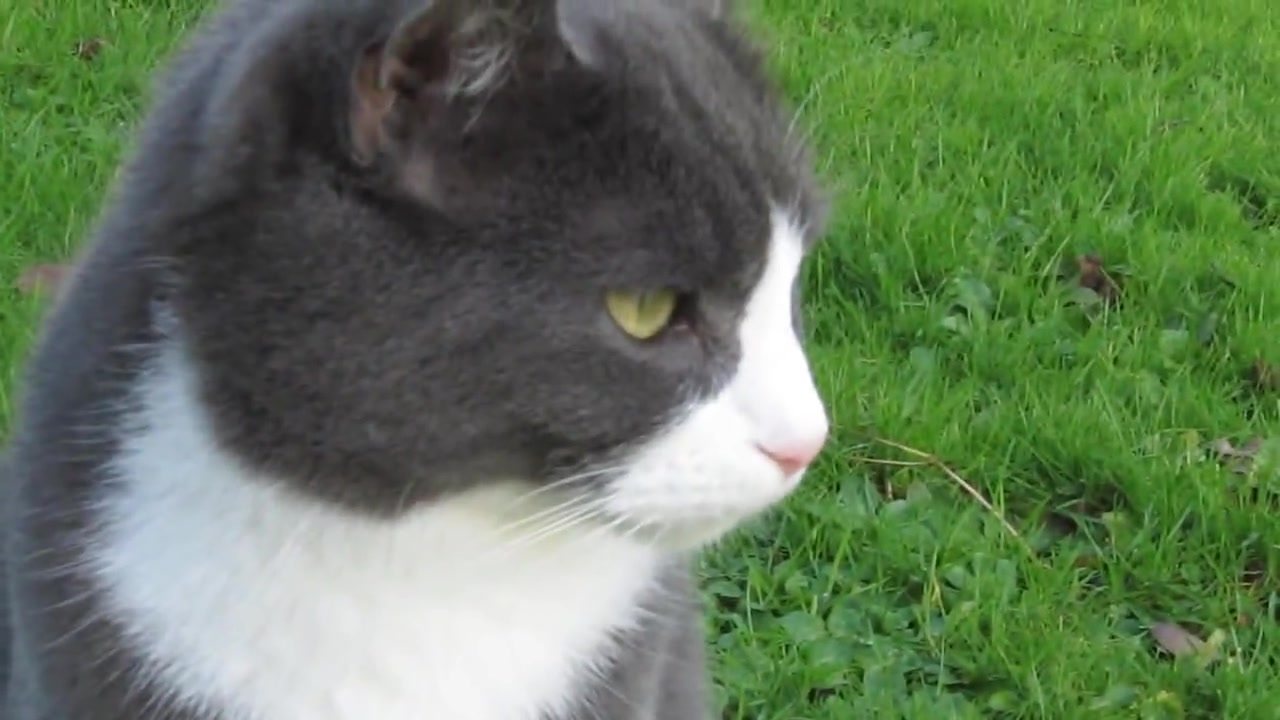cat: (1, 4, 850, 720)
